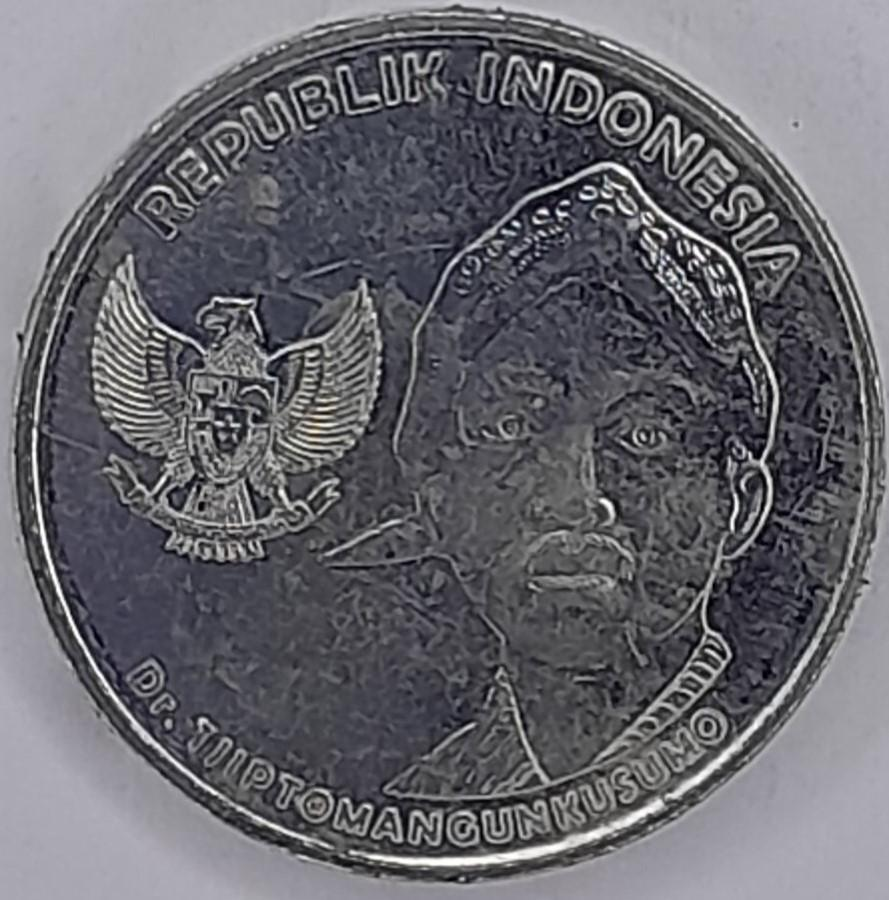coin_200_e2016: (0, 16, 889, 900)
